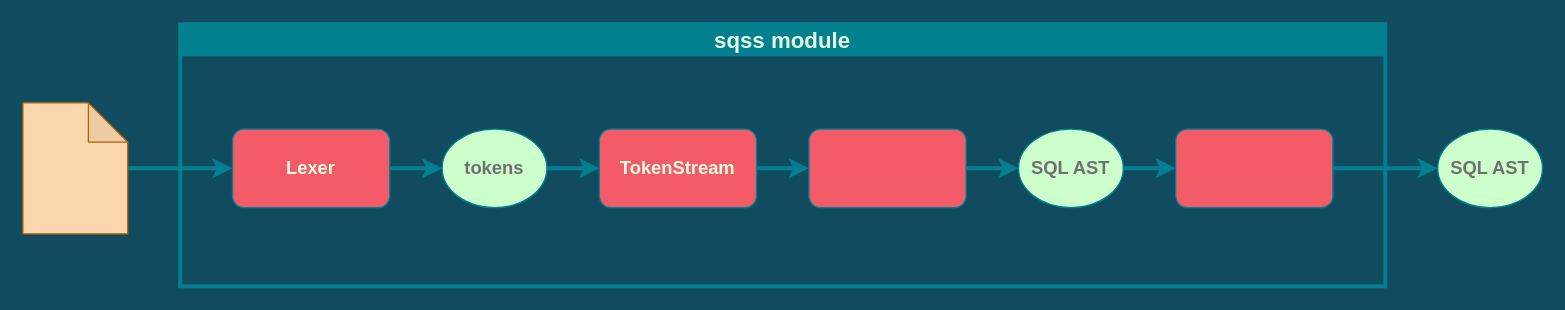
This 1565x310 diagram has some shape labels left out. Each missing label, with the centre of its shape:
"Parser" goes at [887,168].
"Semantic Analyzer" goes at [1253,168].
"SQL text" goes at [75,168].
